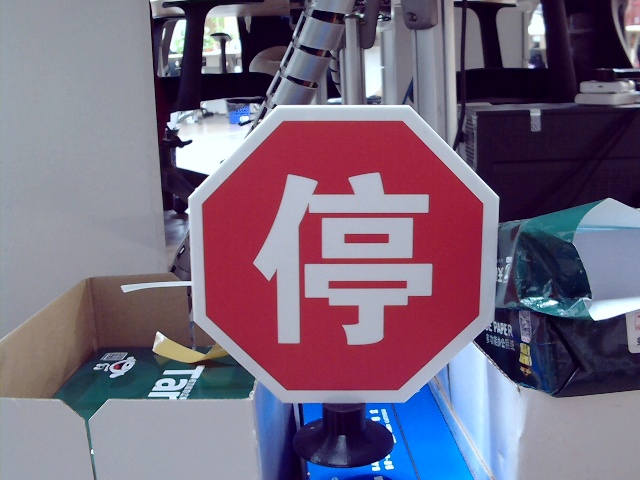stop: (253, 166, 433, 348)
